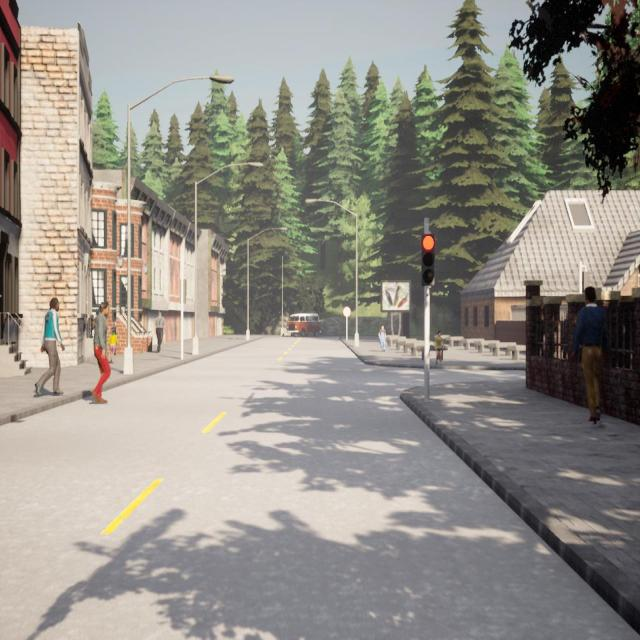Pedestrian: (574, 284, 608, 426), (35, 298, 64, 396), (92, 302, 110, 404), (154, 310, 166, 353), (434, 330, 445, 369), (108, 326, 119, 364), (378, 324, 387, 352)
Traffic_Signs: (342, 306, 352, 317)
Vehicle: (287, 313, 321, 337)
traffic_light: (422, 234, 435, 285), (582, 270, 590, 292), (180, 280, 187, 304)
